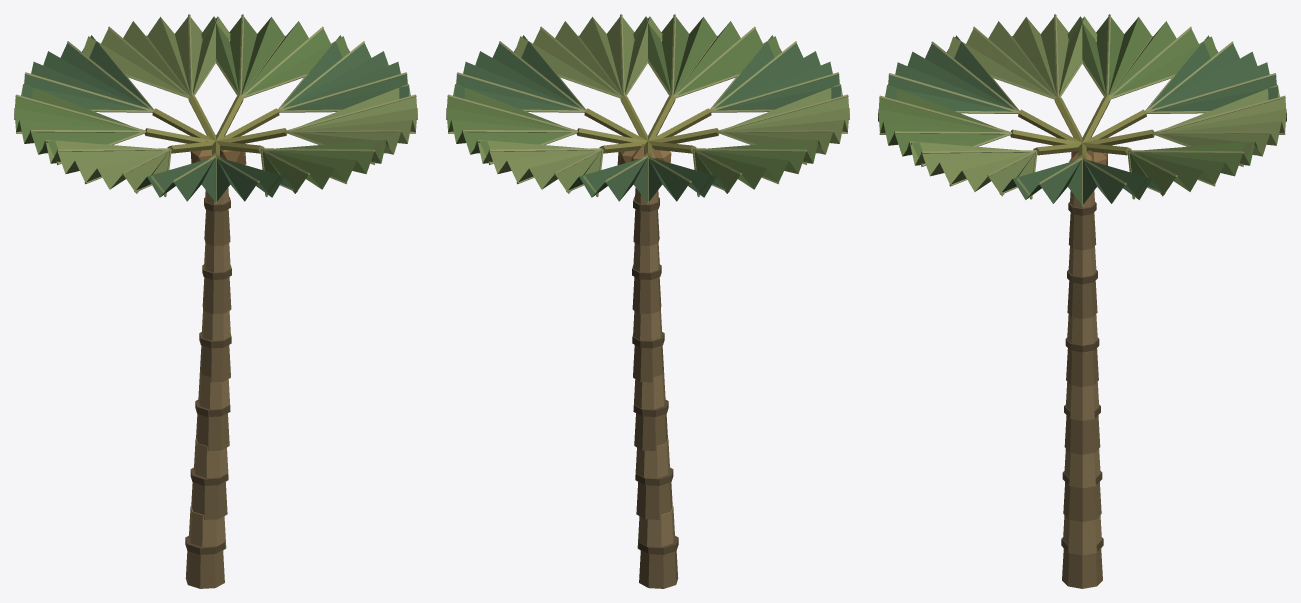
Rendered from nature-palm.glb.
3 renders of one model, left to right at view 1: azimuth 30°, elevation 25°; view 2: azimuth 150°, elevation 25°; view 3: azimuth 270°, elevation 25°, orthographic.
Visible parts, largest first — view 1: SculptedModel; view 2: SculptedModel; view 3: SculptedModel.
Boxes of the visible parts, box(x1,y1,x2,y2) form: SculptedModel: box(14, 14, 417, 588); SculptedModel: box(446, 14, 849, 588); SculptedModel: box(878, 14, 1286, 588).
Bounding box in the file's own units: 2.33 × 3.07 × 2.34.
